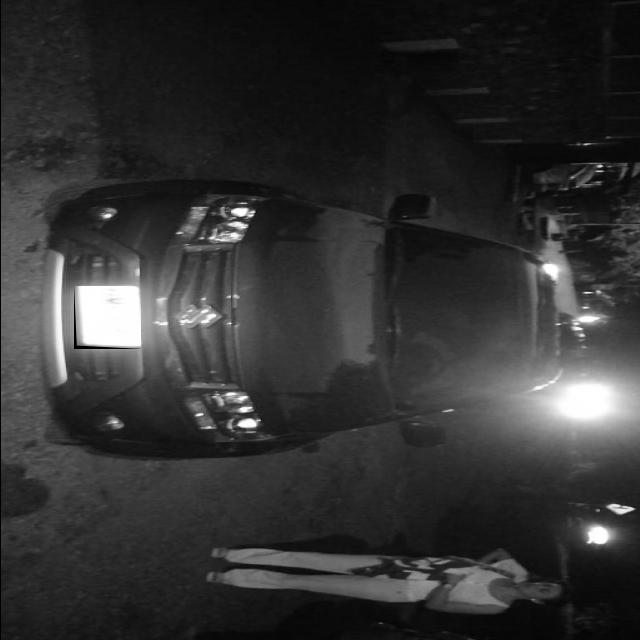plate: (73, 286, 140, 349)
